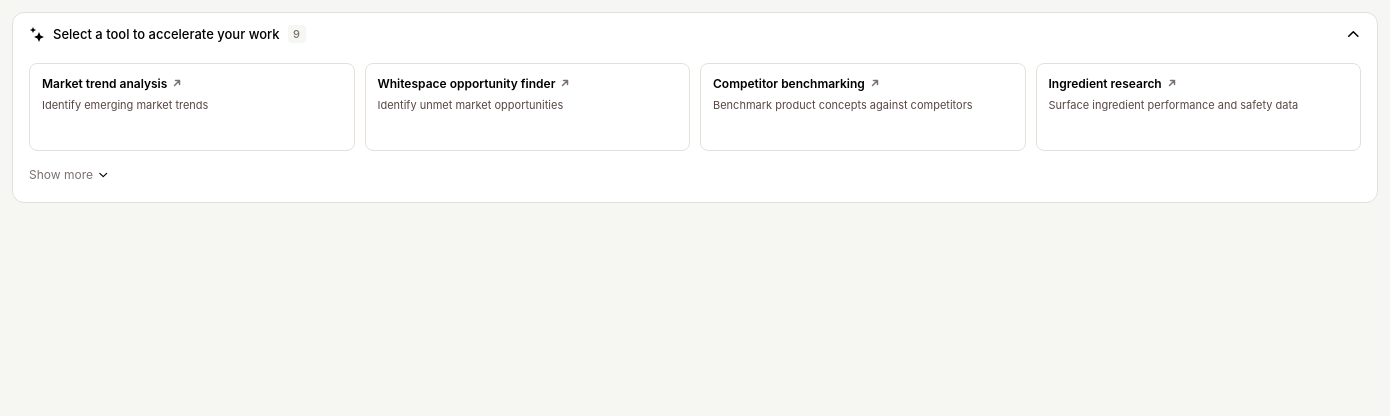
Test: ToolSelectionPanel › tool grid › shows all tools after clicking "Show more"
Click the button "Show more". click: click(69, 174)
box: [29,163,109,186]
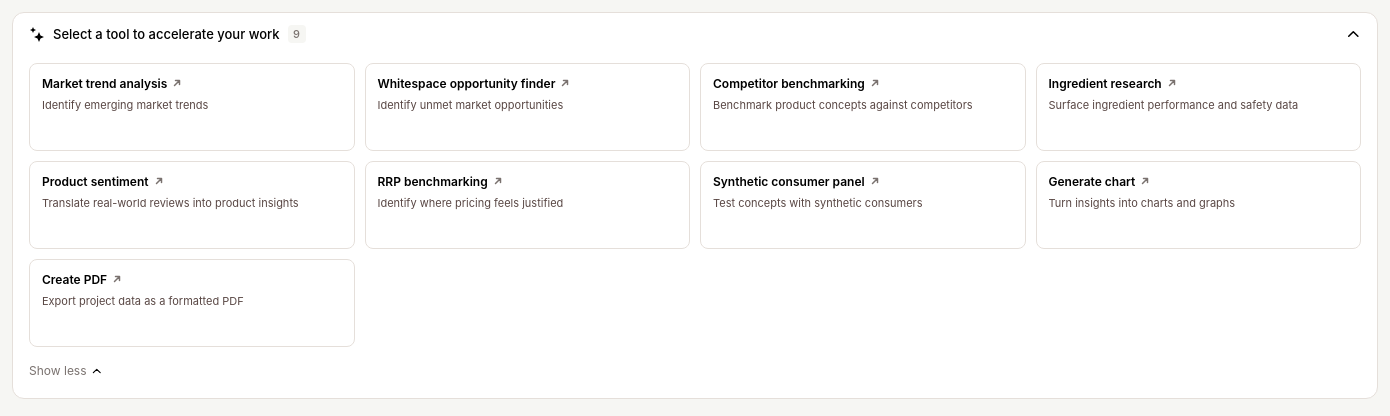
Now the number of buttons named "Use " is 9
